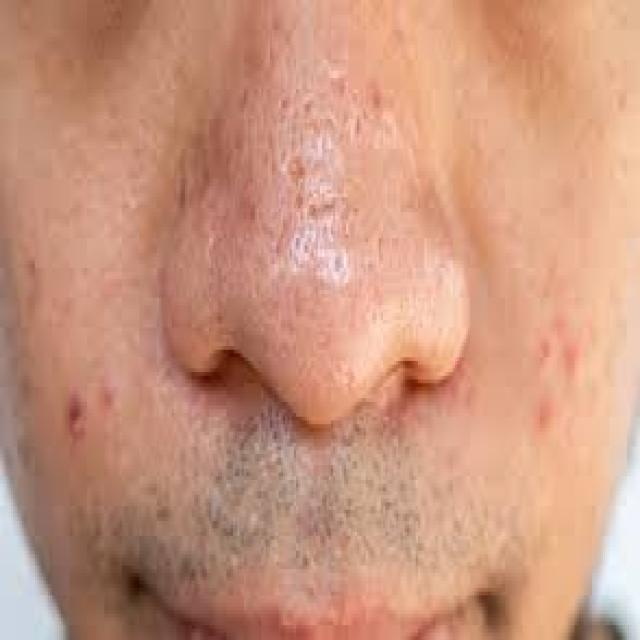Acne: (530, 317, 584, 494), (44, 365, 119, 443)
Englarged-Pores: (198, 79, 452, 345)
